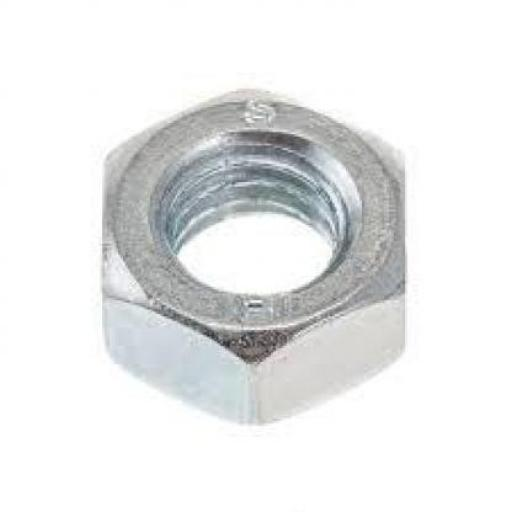nut: (101, 88, 406, 426)
